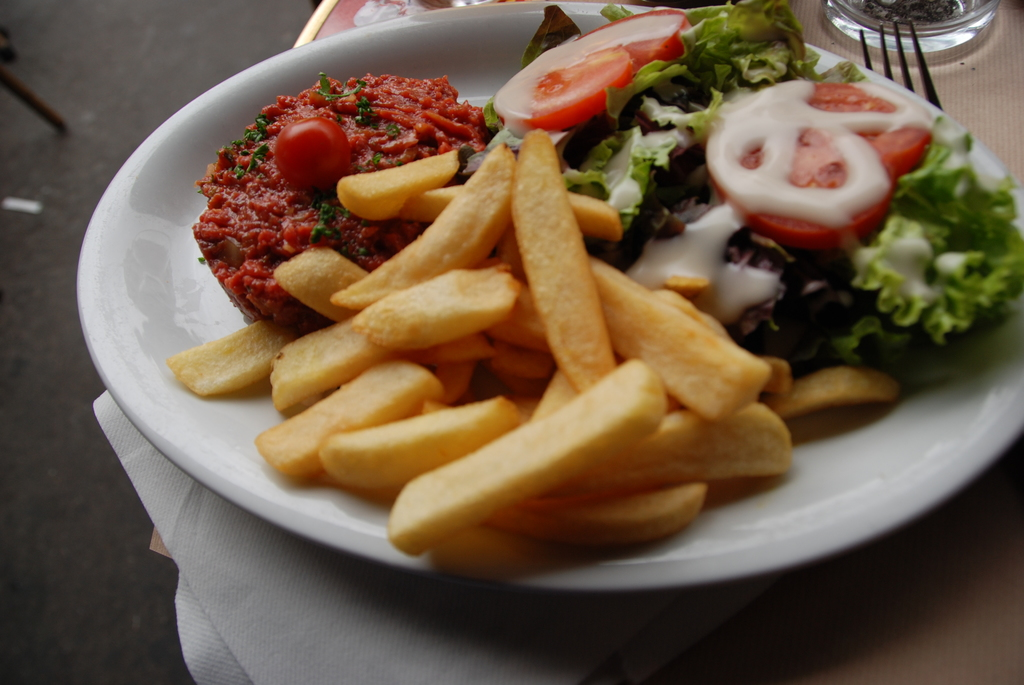French fries: (165, 125, 902, 548)
